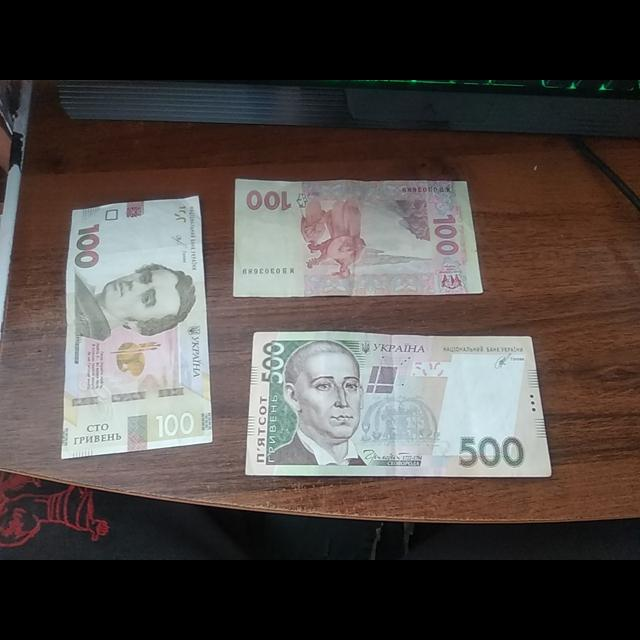100uah: (52, 205, 216, 442), (229, 177, 489, 296)
500uah: (247, 330, 553, 480)
